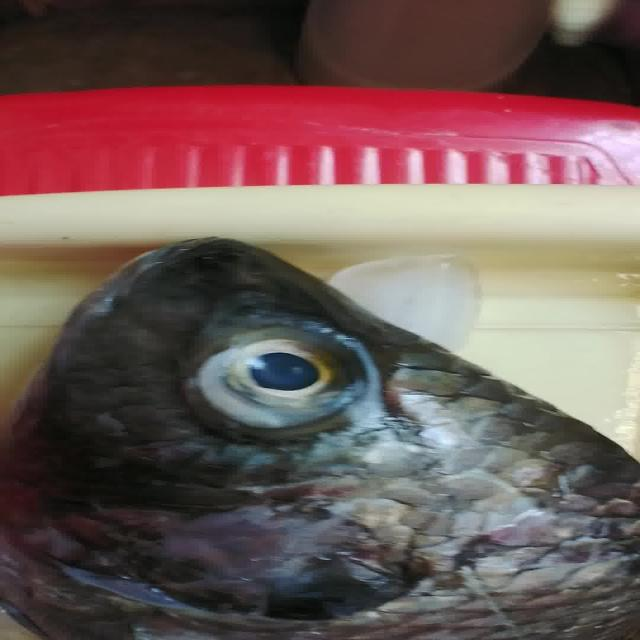Fresh: (176, 316, 394, 436)
